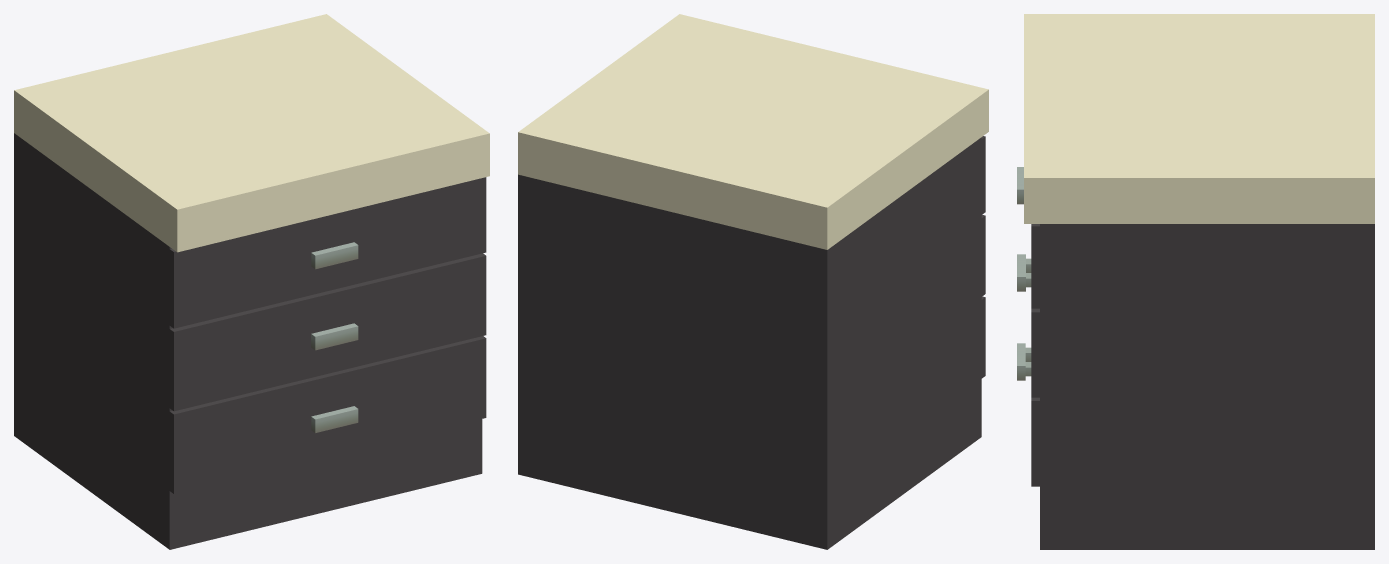
The model's file is SM_Balcony_Bathroom_1_01.fbx.
3 renders of one model, left to right at view 1: azimuth 30°, elevation 25°; view 2: azimuth 150°, elevation 25°; view 3: azimuth 270°, elevation 25°, orthographic. The views are drawn at different scales.
Parts seen in each view (by area): view 1: SM_Balcony_Bathroom_1_01; view 2: SM_Balcony_Bathroom_1_01; view 3: SM_Balcony_Bathroom_1_01.
Part boxes in pixels (left/top/right/bottom): SM_Balcony_Bathroom_1_01: left=14, top=14, right=489, bottom=549; SM_Balcony_Bathroom_1_01: left=518, top=14, right=988, bottom=549; SM_Balcony_Bathroom_1_01: left=1017, top=14, right=1374, bottom=549.
Size of the model in its own units: 102 by 108 by 93.96.
